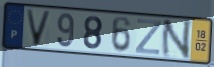6: (111, 16, 132, 54)
8: (83, 15, 104, 50)
9: (56, 12, 75, 49)
N: (160, 19, 195, 60)
V: (24, 8, 54, 47)
Z: (134, 18, 163, 56)
